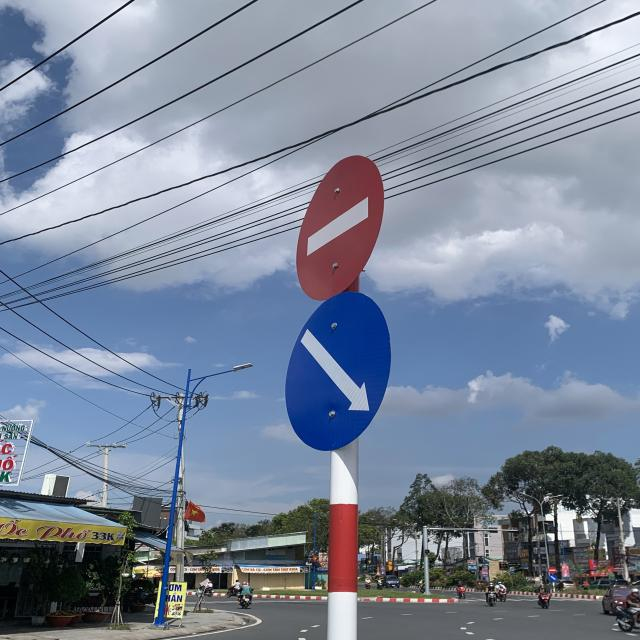Cam_Di_Nguoc_Chieu: (296, 157, 384, 300)
Chi_Huong_Di_Phai: (288, 290, 393, 452)
